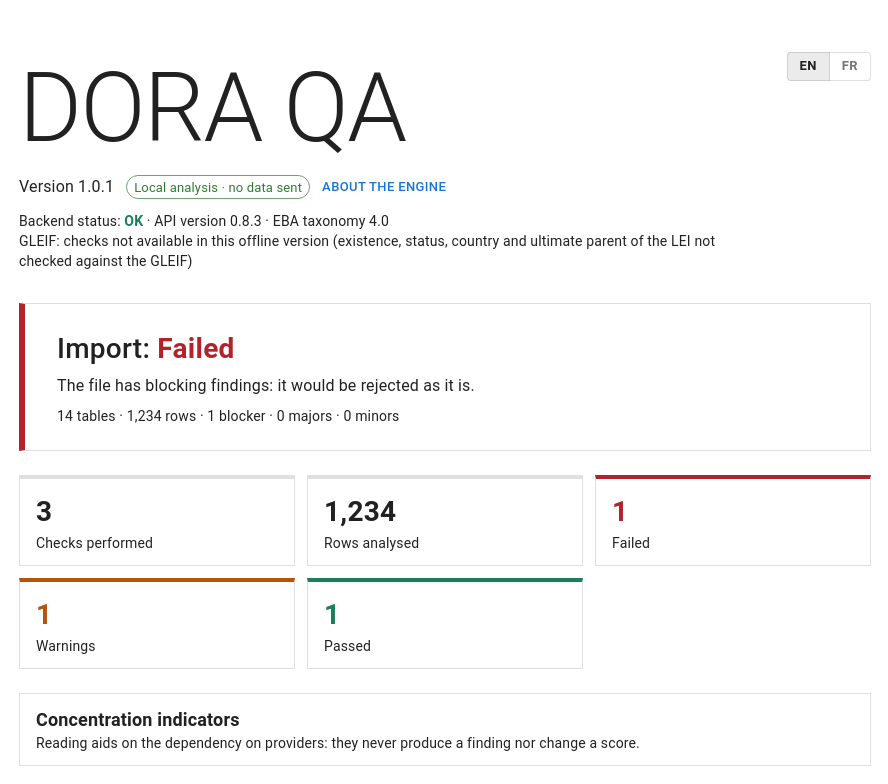
Test: Concentration indicators when they cannot be calculated (brief §13) › says INSUFFICIENT_DATA in words and shows no figure
This screenshot has width=888, height=784.
Earlier steps of the test are not shown.
Click the button "Concentration indicators".
click(138, 719)  # box [20,694,870,765]
(page scrolled)
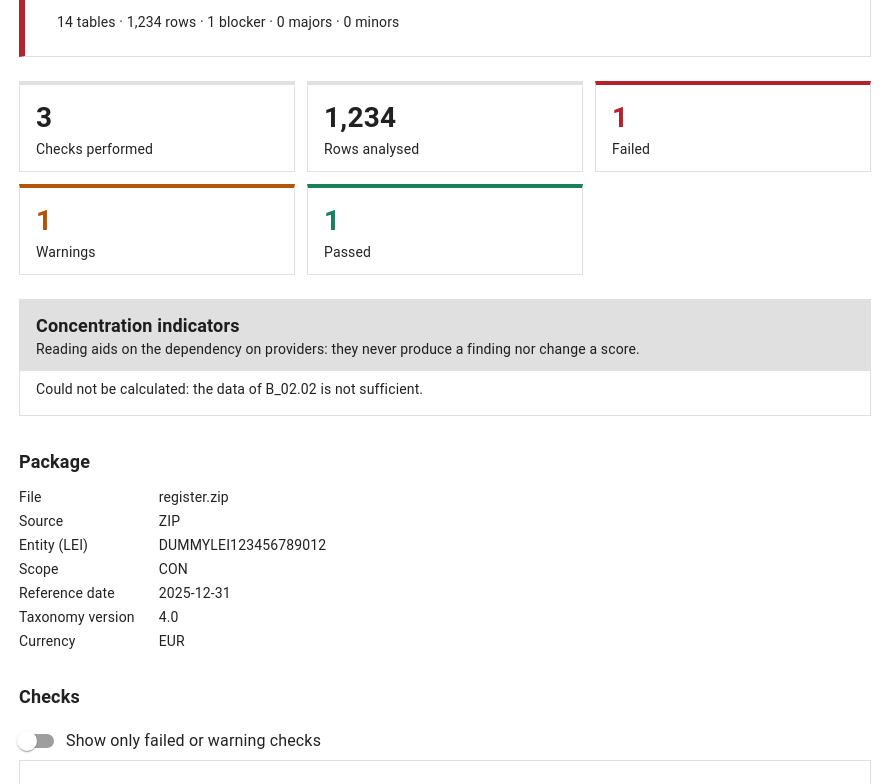
Expected: the text "data of B_02.02 is not sufficient" is shown, [36,381,423,397]
